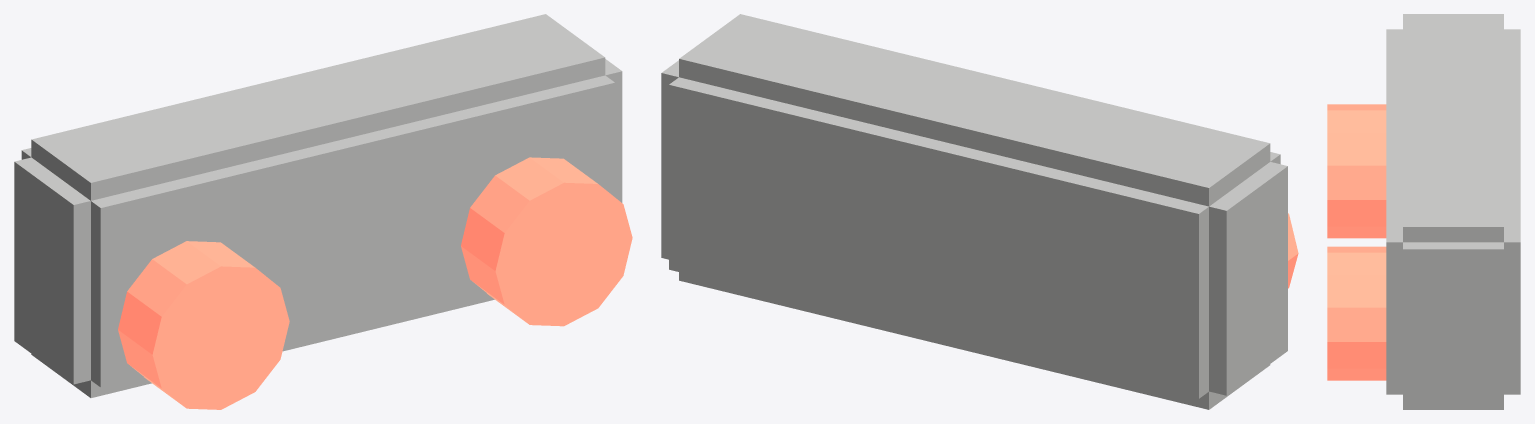
Rendered from luz_emergencia.glb.
3 renders of one model, left to right at view 1: azimuth 30°, elevation 25°; view 2: azimuth 150°, elevation 25°; view 3: azimuth 270°, elevation 25°, orthographic. The views are drawn at different scales.
Visible parts, largest first — view 1: luz_emergencia; view 2: luz_emergencia; view 3: luz_emergencia.
Part boxes in pixels (<box>): luz_emergencia: <box>14,14,632,409</box>; luz_emergencia: <box>661,14,1298,409</box>; luz_emergencia: <box>1327,14,1520,409</box>.
Bounding box in the file's own units: 0.32 × 0.12 × 0.115.
